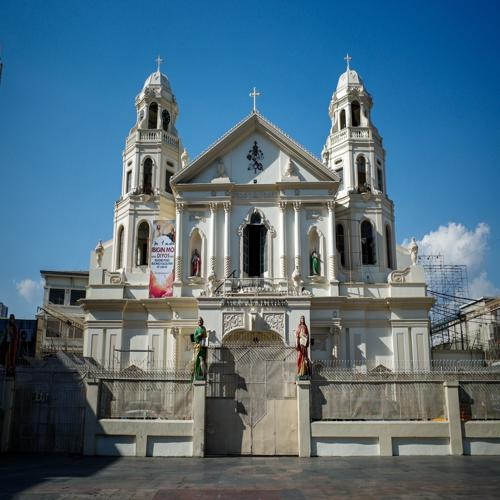Quiapo Church: (72, 40, 440, 470)
